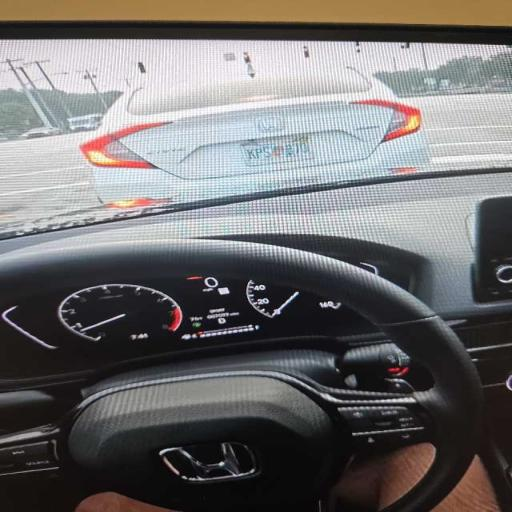car: (0, 23, 511, 511), (81, 68, 427, 202), (68, 114, 103, 132), (20, 126, 61, 139)
lane: (0, 133, 99, 223)
person: (328, 445, 434, 510)
